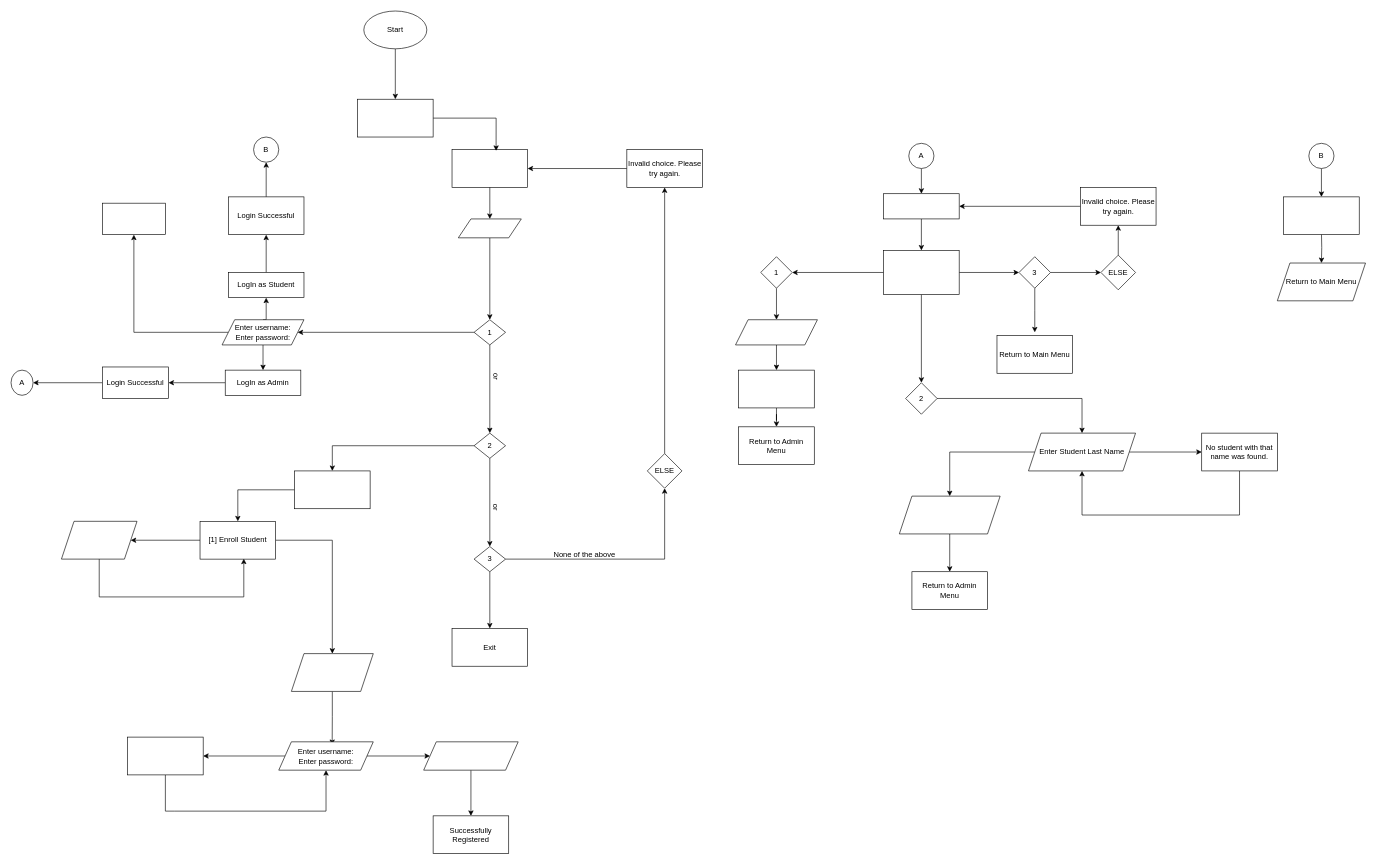
This 1377x865 diagram has some shape labels left out. The shapes that lost their labels are listed below. From the top down, each one's box as (x1, y1, x2, y2) in pixels, then its label:
(357, 99, 433, 137): Main Menu
(451, 149, 528, 187): [1] Login [2] Register [3] Exit
(102, 203, 165, 235): Incorrect Username or Password
(883, 193, 959, 219): Admin Menu
(1283, 196, 1359, 235): Display Information
(458, 218, 521, 238): User Input
(883, 250, 959, 295): [1] Check Enrollees [2] Check Enrolled [3] Logout
(735, 319, 817, 345): Read File
(738, 369, 814, 408): Update Information
(294, 470, 370, 509): Student Type:
(899, 495, 1000, 534): Press any number to quit
(61, 521, 137, 559): Invalid choice please try again!
(291, 653, 373, 691): Student Register Account
(127, 736, 203, 775): Username already existed
(423, 741, 518, 770): Fill up Information
